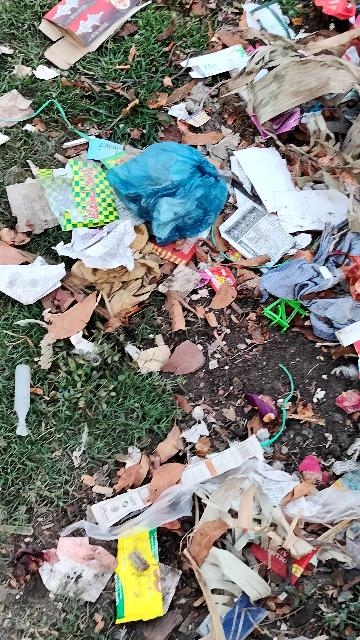polythene: (104, 117, 232, 253), (106, 504, 164, 631), (50, 156, 120, 241)
